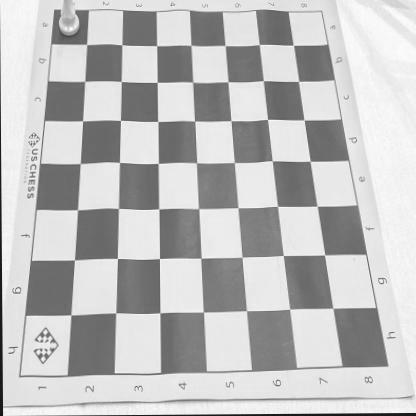white-knight: (58, 0, 82, 39)
